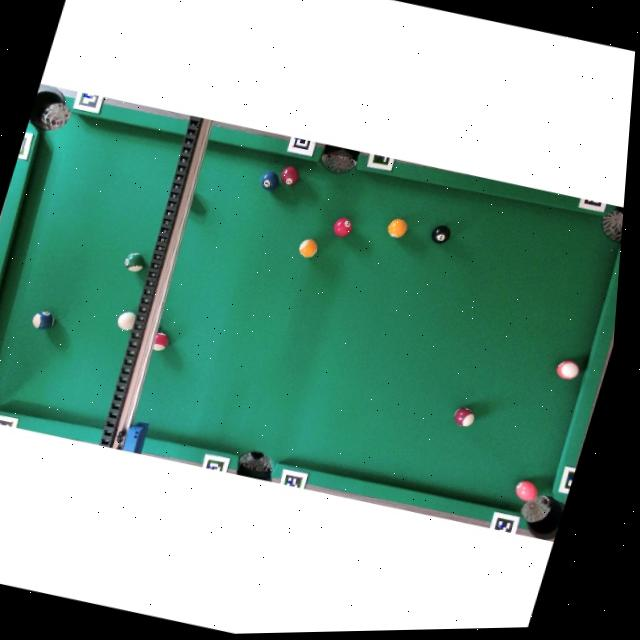cue ball: (115, 309, 137, 332)
other: (511, 478, 542, 504), (29, 308, 57, 333), (554, 358, 582, 382), (451, 405, 477, 428), (121, 250, 147, 273), (385, 216, 409, 240), (428, 222, 452, 246), (258, 169, 282, 192), (330, 215, 354, 238), (278, 164, 301, 187), (296, 237, 319, 259), (151, 331, 170, 353)
